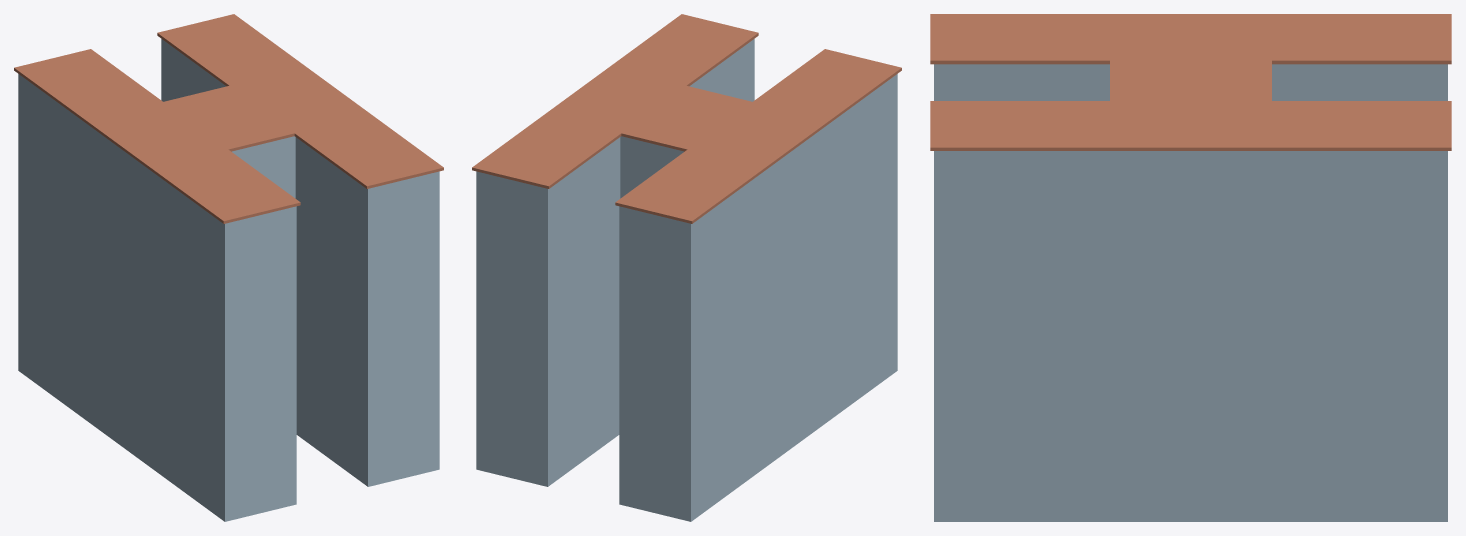
File: building.glb
3 views of the same model, side by side, from view 1: azimuth 30°, elevation 25°; view 2: azimuth 150°, elevation 25°; view 3: azimuth 270°, elevation 25° (orthographic). The views are drawn at different scales.
Parts seen in each view (by area): view 1: A06; view 2: A06; view 3: A06.
Boxes of the visible parts, x1=… form: A06: x1=14, y1=14, x2=443, y2=521; A06: x1=472, y1=14, x2=901, y2=521; A06: x1=930, y1=14, x2=1451, y2=521.
Size of the model in its own units: 12.3 by 16.15 by 20.3.
